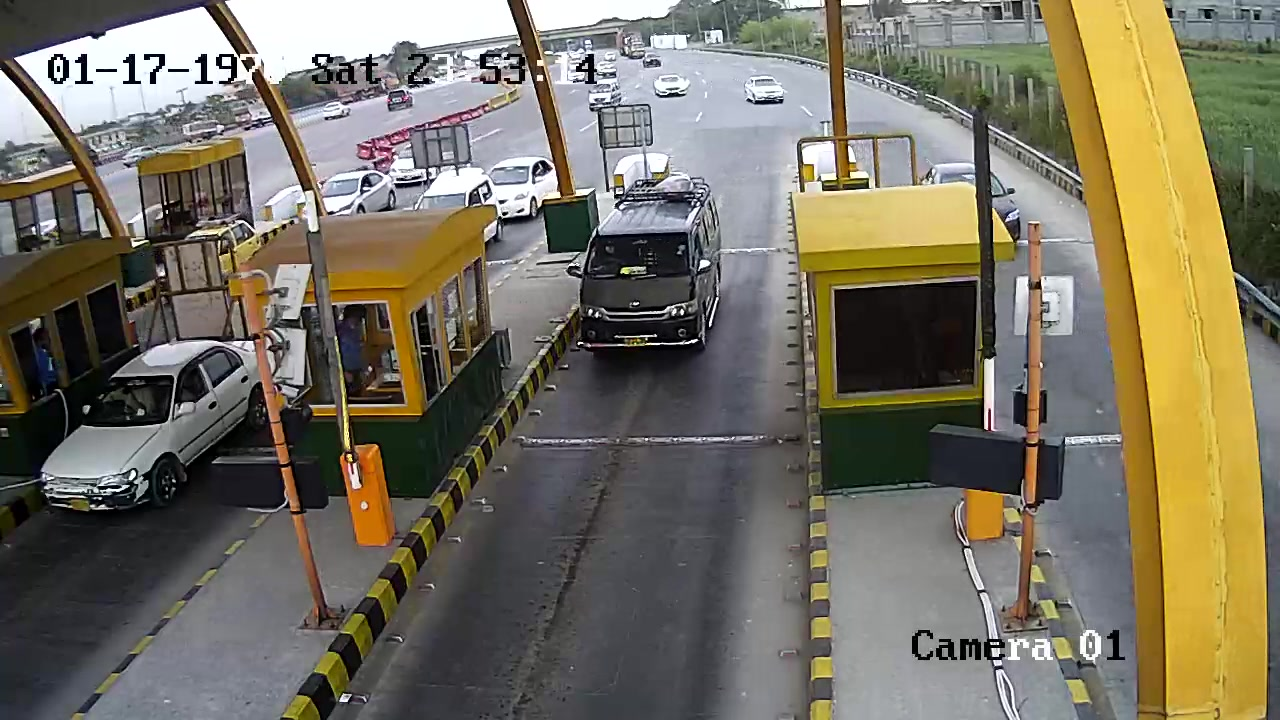F2: (576, 166, 732, 370)
